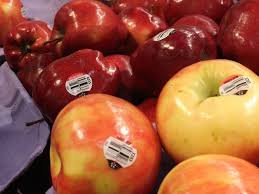apple: (57, 95, 159, 192), (160, 56, 255, 156), (132, 24, 220, 83), (38, 49, 121, 110), (53, 1, 127, 51), (7, 19, 60, 66)
